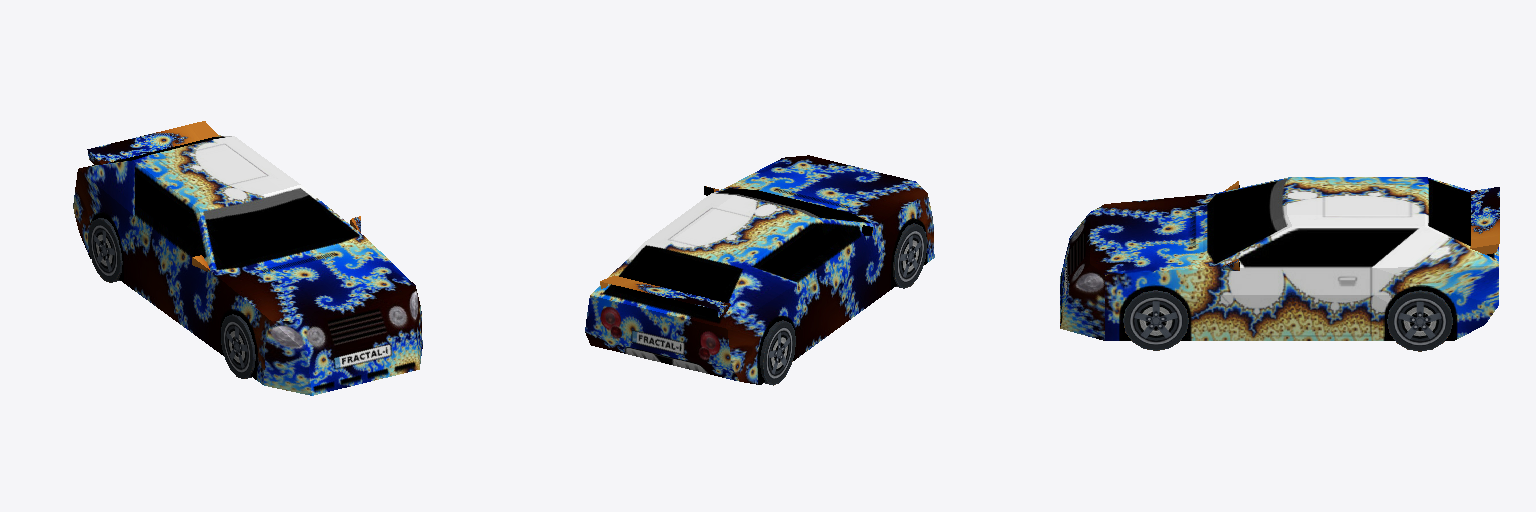
3 renders of one model, left to right at view 1: azimuth 30°, elevation 25°; view 2: azimuth 150°, elevation 25°; view 3: azimuth 270°, elevation 25°, orthographic.
Visible parts, largest first — view 1: car; view 2: car; view 3: car.
Boxes of the visible parts, x1=… form: car: x1=73, y1=121, x2=422, y2=395; car: x1=585, y1=155, x2=934, y2=385; car: x1=1060, y1=177, x2=1499, y2=351.
Bounding box in the file's own units: 1.99 × 1.27 × 4.49.
Materials: 1 (1 with a texture image).